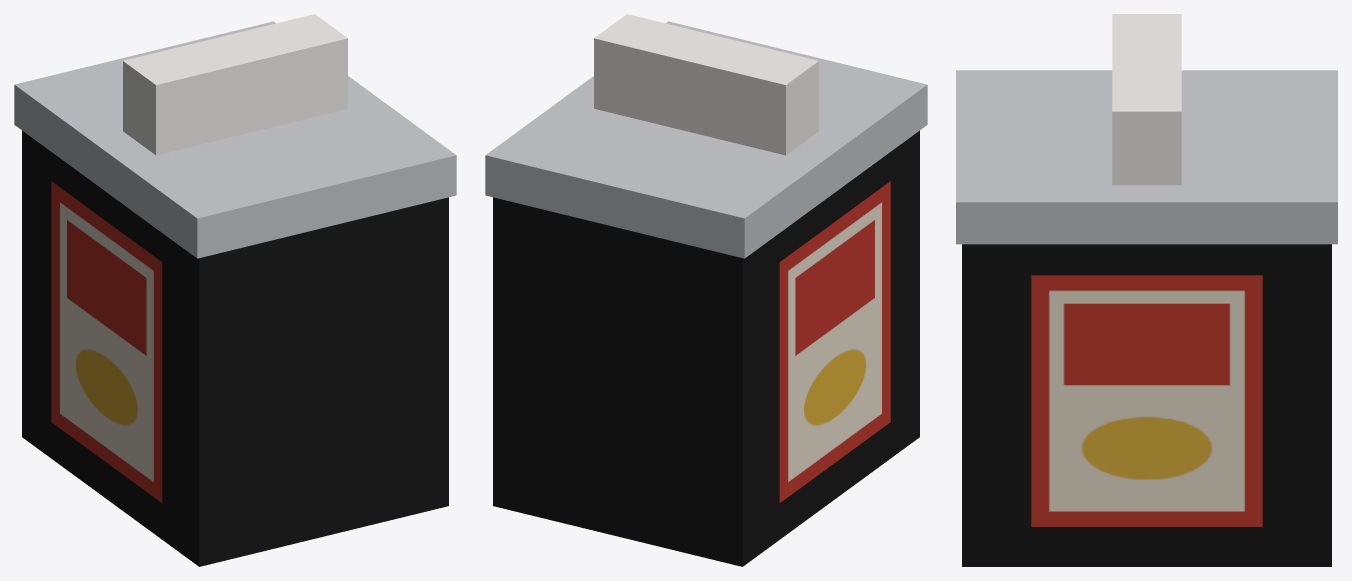
Rendered from napkin_dispenser.glb.
3 renders of one model, left to right at view 1: azimuth 30°, elevation 25°; view 2: azimuth 150°, elevation 25°; view 3: azimuth 270°, elevation 25°, orthographic. The views are drawn at different scales.
Visible parts, largest first — view 1: napkin_dispenser; view 2: napkin_dispenser; view 3: napkin_dispenser.
Boxes of the visible parts, x1=… form: napkin_dispenser: x1=14, y1=14, x2=456, y2=566; napkin_dispenser: x1=485, y1=14, x2=927, y2=566; napkin_dispenser: x1=956, y1=14, x2=1337, y2=566.
Bounding box in the file's own units: 0.135 × 0.21 × 0.165.
4 materials, 1 textured.
